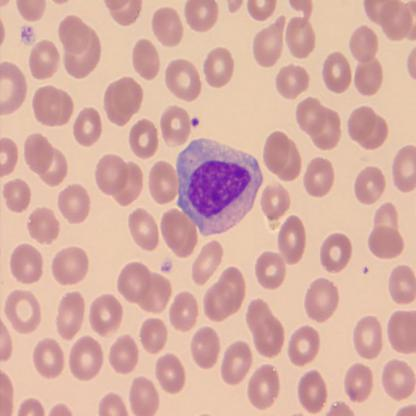Metamyelocyte: (172, 134, 266, 238)
